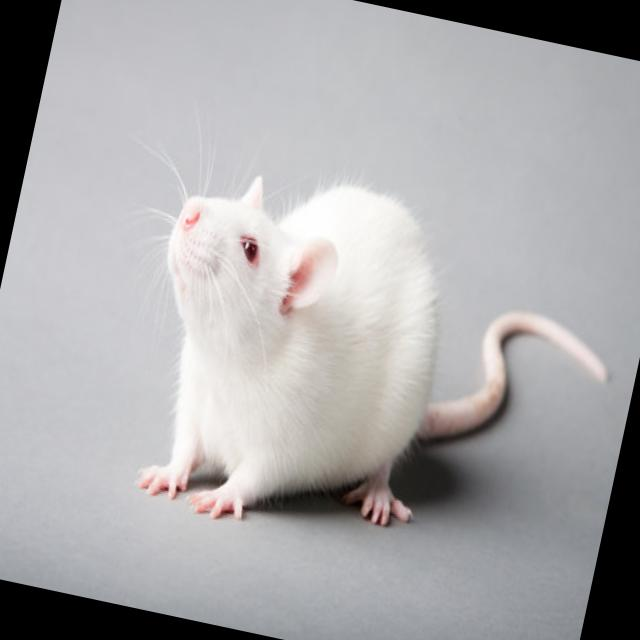rodents: (90, 127, 490, 602)
